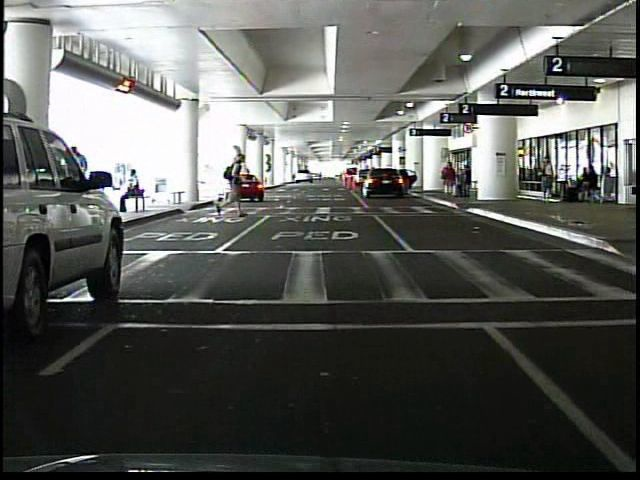person: (72, 147, 107, 216), (215, 155, 251, 220), (121, 166, 146, 215), (440, 161, 459, 199), (541, 154, 555, 201), (462, 164, 463, 198)
